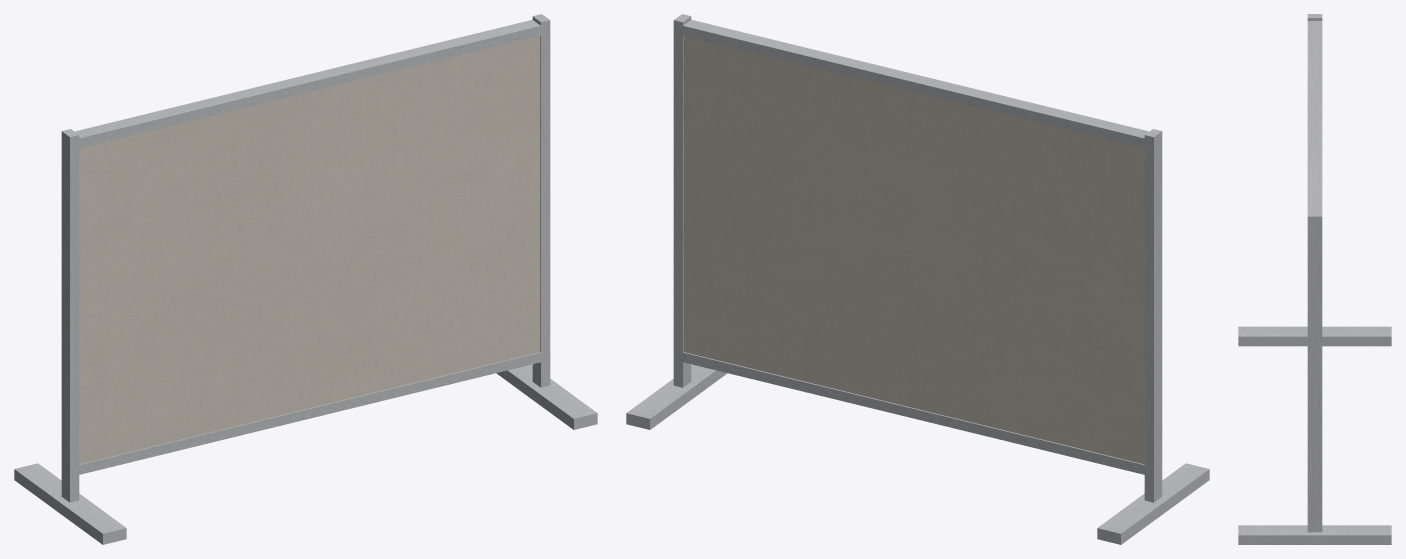
Rendered from cubicle_divider.glb.
3 views of the same model, side by side, from view 1: azimuth 30°, elevation 25°; view 2: azimuth 150°, elevation 25°; view 3: azimuth 270°, elevation 25° (orthographic). The views are drawn at different scales.
Parts seen in each view (by area): view 1: Acoustic divider center panel, Straight divider crossbar.001, Straight divider side post, Straight divider crossbar, Straight divider side post.001, Identical stable T foot, Identical stable T foot.001; view 2: Acoustic divider center panel, Straight divider crossbar.001, Straight divider side post, Straight divider crossbar, Straight divider side post.001, Identical stable T foot, Identical stable T foot.001; view 3: Straight divider side post.001, Straight divider crossbar.001, Identical stable T foot.001, Identical stable T foot.
Part boxes in pixels (x1,y1,x2,y2): Acoustic divider center panel: [79, 36, 540, 464]; Straight divider crossbar.001: [72, 20, 546, 149]; Straight divider side post: [61, 129, 79, 502]; Straight divider crossbar: [72, 351, 548, 476]; Straight divider side post.001: [532, 14, 550, 387]; Identical stable T foot: [14, 463, 126, 544]; Identical stable T foot.001: [496, 364, 597, 429]; Acoustic divider center panel: [683, 36, 1144, 464]; Straight divider crossbar.001: [675, 20, 1150, 149]; Straight divider side post: [1144, 129, 1162, 502]; Straight divider crossbar: [675, 351, 1147, 475]; Straight divider side post.001: [673, 14, 691, 387]; Identical stable T foot: [1097, 463, 1209, 544]; Identical stable T foot.001: [626, 364, 727, 429]; Straight divider side post.001: [1307, 212, 1322, 532]; Straight divider crossbar.001: [1307, 21, 1322, 212]; Identical stable T foot.001: [1238, 525, 1391, 544]; Identical stable T foot: [1238, 326, 1391, 346].
Size of the model in its own units: 1.87 by 1.36 by 0.58.
2 materials, 2 textured.
